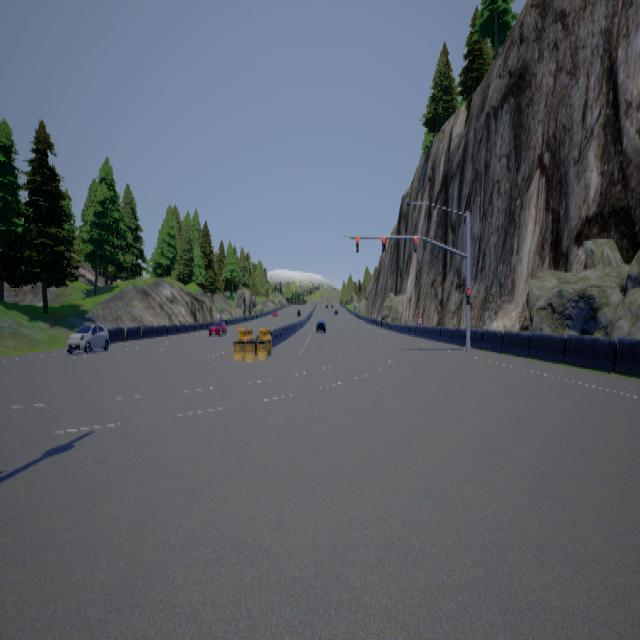red_light: (465, 286, 469, 303), (381, 236, 385, 251), (413, 236, 416, 251), (355, 236, 358, 251)
vehicle: (66, 323, 109, 352), (207, 315, 226, 337), (313, 317, 328, 330)
